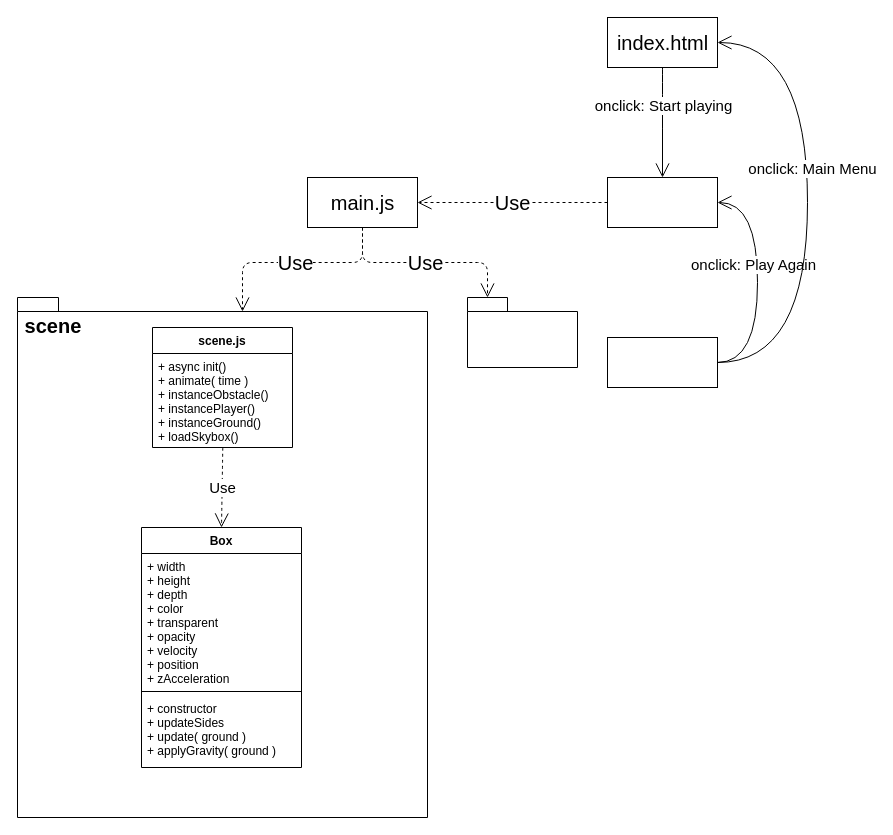
Some shapes in this 893 by 835 pixel diagram are drawn without their labels. The shapes that lost their labels are listed below. From the top down, each one's centre as x and y in pixels, then its label:
At point (662, 202): "game.html".
At point (522, 332): "resources".
At point (662, 362): "death.html".
